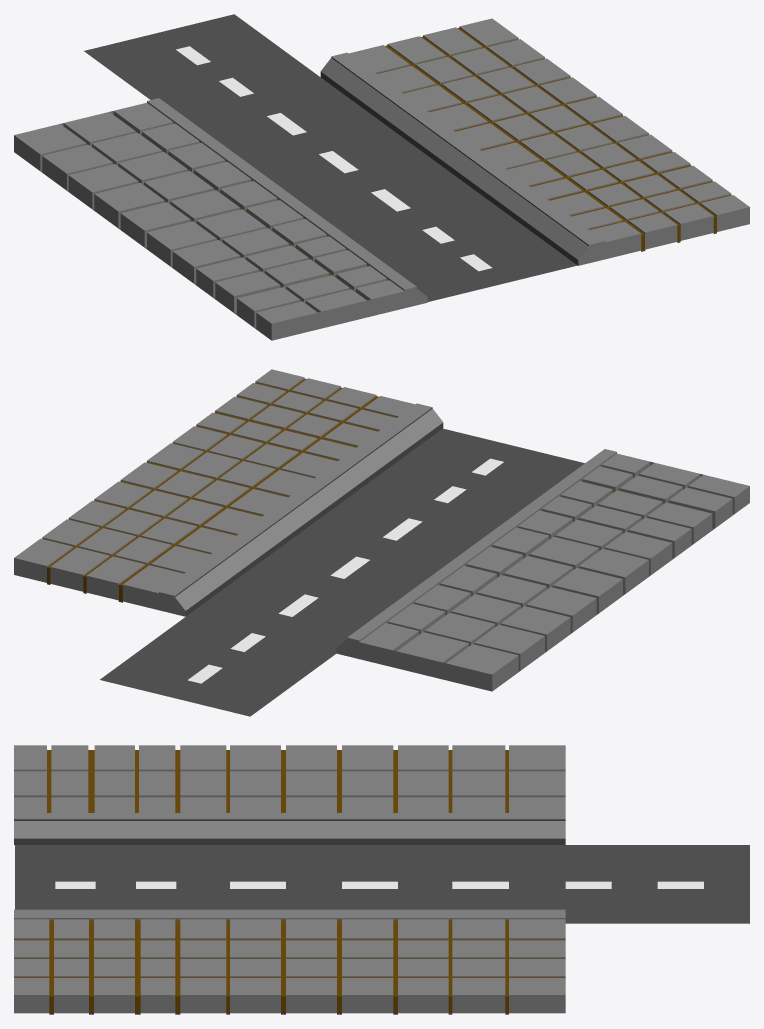
File: weg.fbx
3 renders of one model, top to bottom at view 1: azimuth 30°, elevation 25°; view 2: azimuth 150°, elevation 25°; view 3: azimuth 270°, elevation 25°, orthographic. The views are drawn at different scales.
Visible parts, largest first — view 1: Plane; view 2: Plane; view 3: Plane.
Part boxes in pixels (left/top/right/bottom): Plane: left=14, top=14, right=749, bottom=340; Plane: left=14, top=369, right=749, bottom=716; Plane: left=14, top=745, right=749, bottom=1014.
Size of the model in its own units: 2192 by 87.5 by 2730.
